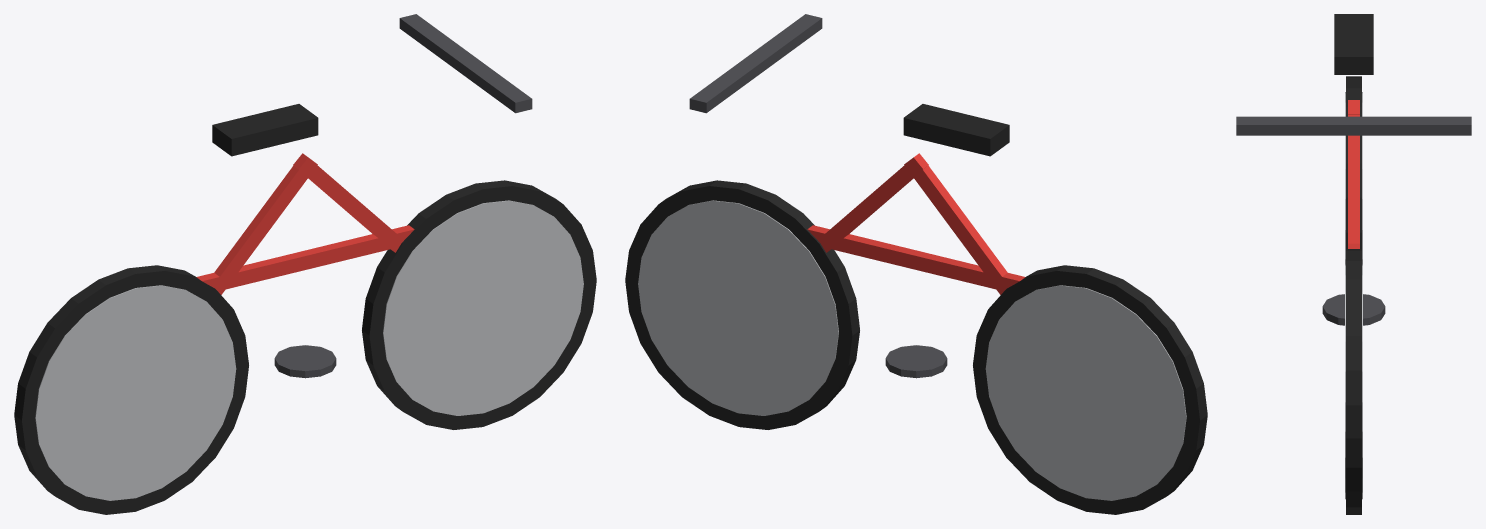
File: SM_Prop_Bike.glb
3 renders of one model, left to right at view 1: azimuth 30°, elevation 25°; view 2: azimuth 150°, elevation 25°; view 3: azimuth 270°, elevation 25°, orthographic.
Visible parts, largest first — view 1: SM_Prop_Bike; view 2: SM_Prop_Bike; view 3: SM_Prop_Bike.
Part boxes in pixels (<box>): SM_Prop_Bike: <box>14,14,596,514</box>; SM_Prop_Bike: <box>625,14,1207,514</box>; SM_Prop_Bike: <box>1236,14,1471,514</box>.
Bounding box in the file's own units: 1.72 × 1.05 × 0.6.
